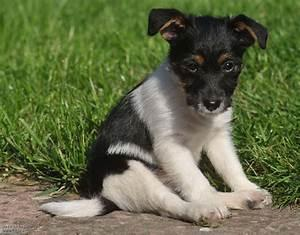dog: (37, 6, 273, 226)
